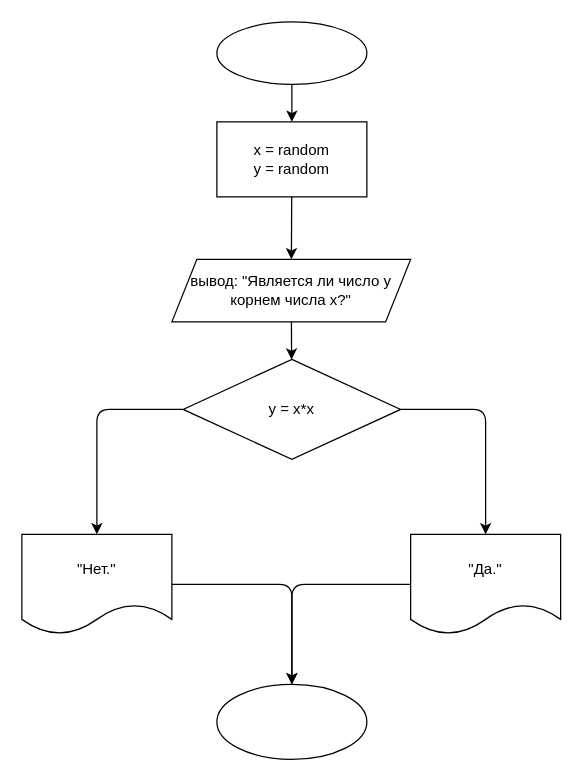
Image size: 583x781. Some labels were removed from this diagram. The centre of each missing label's shape, as x and y in pixels:
"START" goes at (x=291, y=52).
"STOP" goes at (x=291, y=721).
